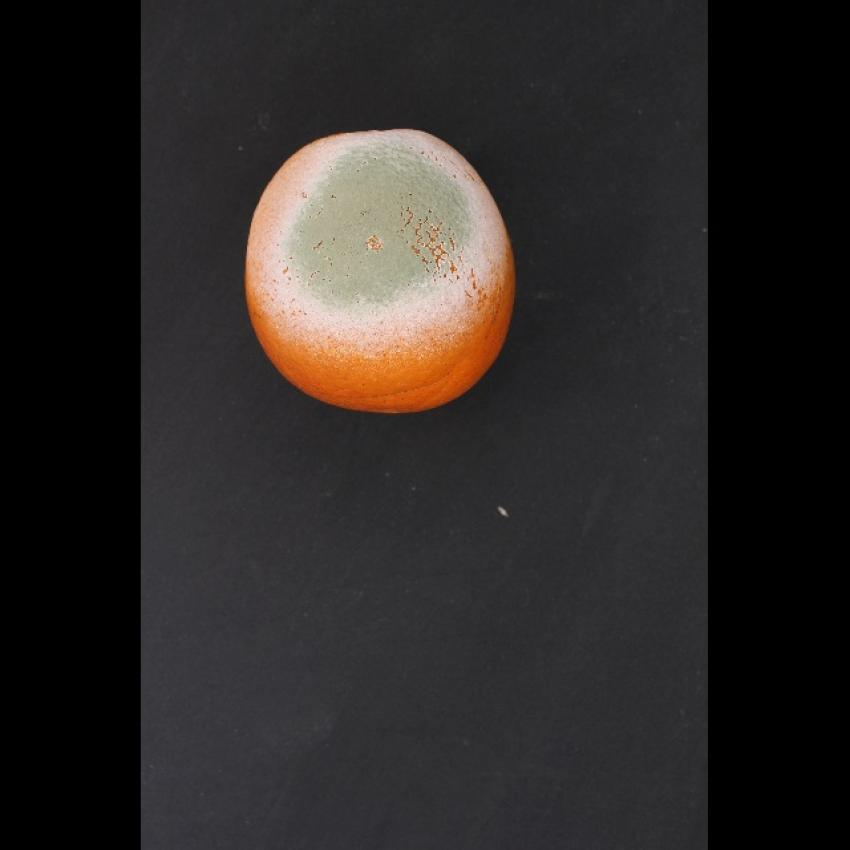Mal estado: (235, 120, 526, 416)
